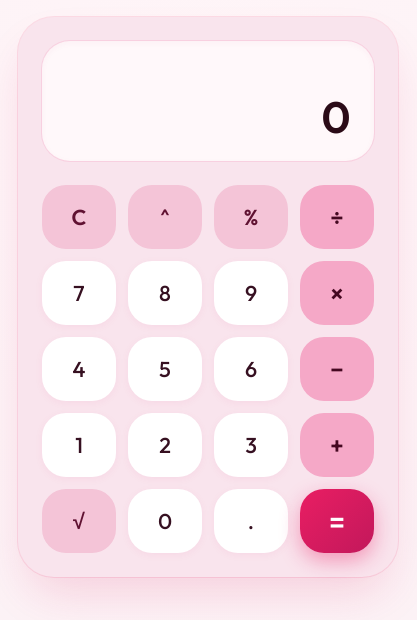
Test: Calculator Component › handles division by zero error gracefully
What coordinates should you click on to do the following:
click the button "5"
I would click on:
 (165, 369)
Its box is [128,337,202,401].
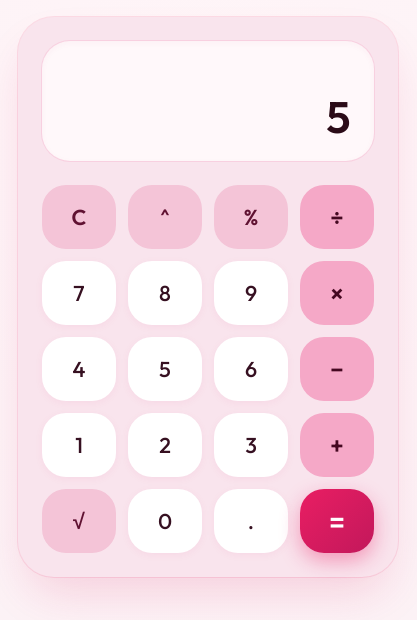
What coordinates should you click on to do the following:
click the button named "Divide"
I would click on:
 (337, 217)
Its box is [300,185,374,249].
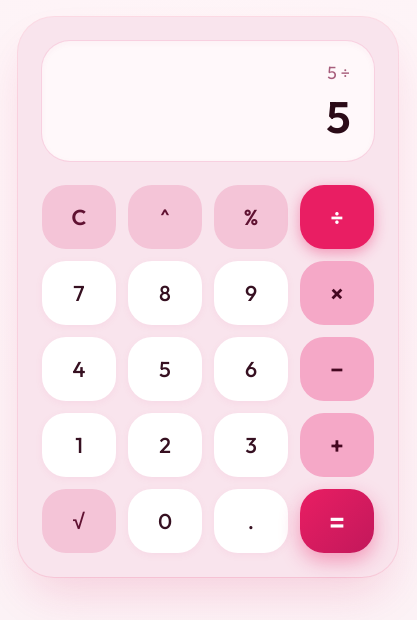
What coordinates should you click on to do the following:
click the button "0"
I would click on:
 (165, 521)
Its box is [128,489,202,553].
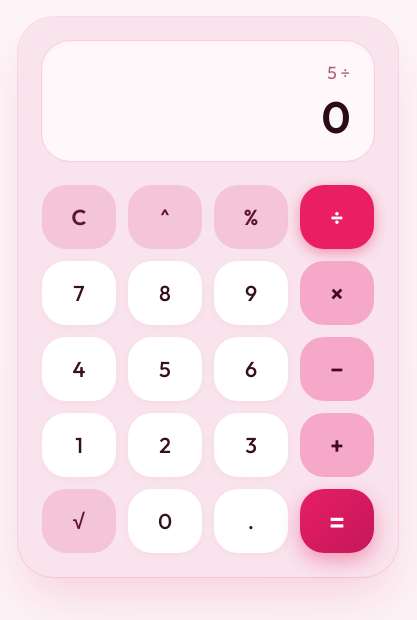
What coordinates should you click on to do the following:
click the button named "Equals"
I would click on:
 (337, 521)
Its box is [300,489,374,553].
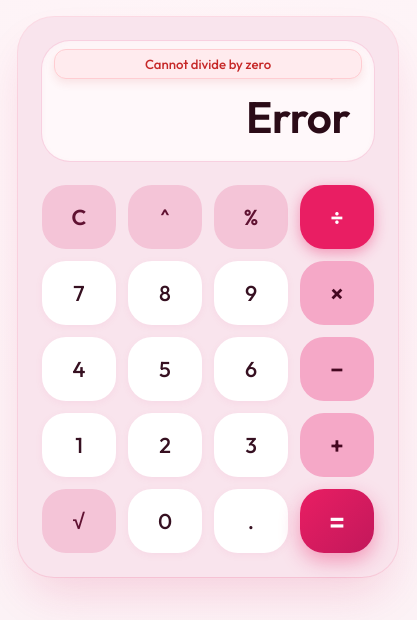
Expected: the text "Cannot divide by zero" is shown, [54,49,362,79]
Expected: the text "Error" is shown, [246,89,350,144]
